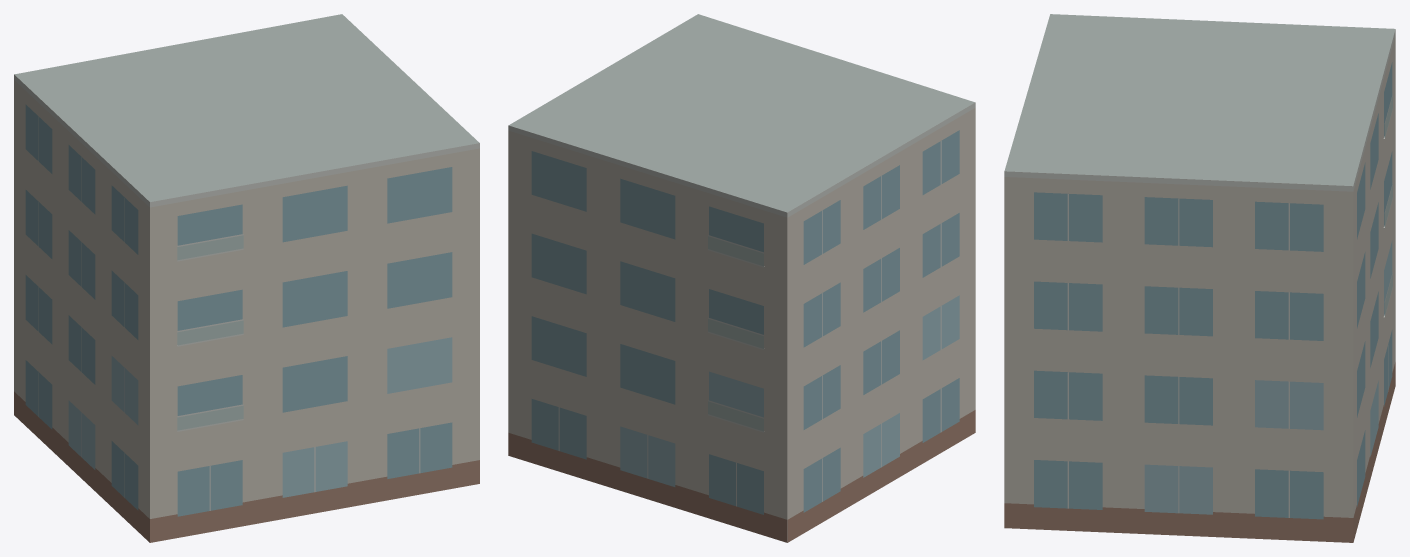
File: survey-upis-32802412.glb
3 views of the same model, side by side, from view 1: azimuth 30°, elevation 25°; view 2: azimuth 150°, elevation 25°; view 3: azimuth 270°, elevation 25° (orthographic). The views are drawn at different scales.
Parts seen in each view (by area): view 1: survey-upis-32802412.tmp; view 2: survey-upis-32802412.tmp; view 3: survey-upis-32802412.tmp.
Boxes of the visible parts, box(x1,y1,x2,y2) form: survey-upis-32802412.tmp: box(14, 14, 479, 542); survey-upis-32802412.tmp: box(508, 14, 975, 542); survey-upis-32802412.tmp: box(1004, 14, 1395, 542).
Bounding box in the file's own units: 16.16 × 15.6 × 15.52.
